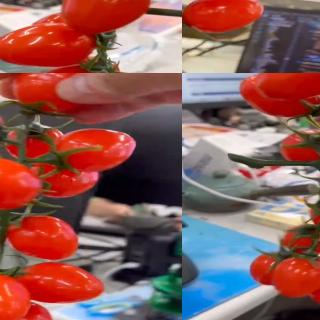tomato: (0, 21, 97, 70), (12, 261, 104, 305), (53, 128, 137, 174), (0, 73, 83, 115), (239, 73, 317, 117), (7, 216, 80, 263), (59, 0, 148, 37), (182, 0, 265, 36), (0, 121, 67, 158), (35, 165, 99, 198), (271, 256, 320, 299), (0, 159, 38, 212), (256, 73, 320, 100), (251, 251, 297, 285), (280, 131, 320, 168), (0, 273, 29, 320), (279, 225, 320, 257), (55, 56, 125, 73), (0, 303, 54, 320), (308, 202, 320, 229)
